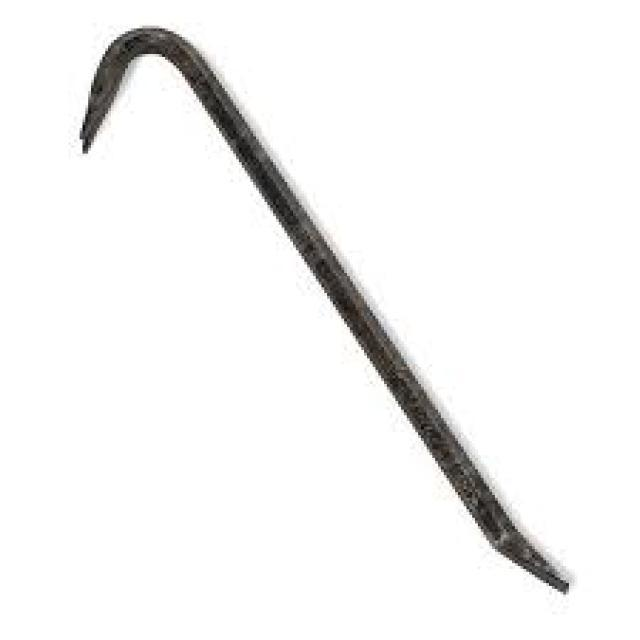Linggis: (76, 17, 576, 600)
